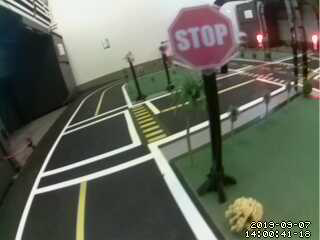Stop_Sign: (163, 4, 240, 70)
